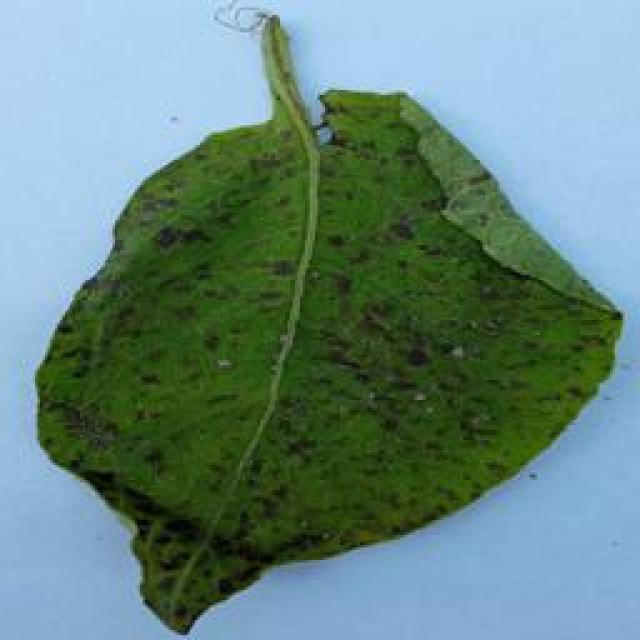Potato_Early_Blight: (38, 93, 614, 628)
